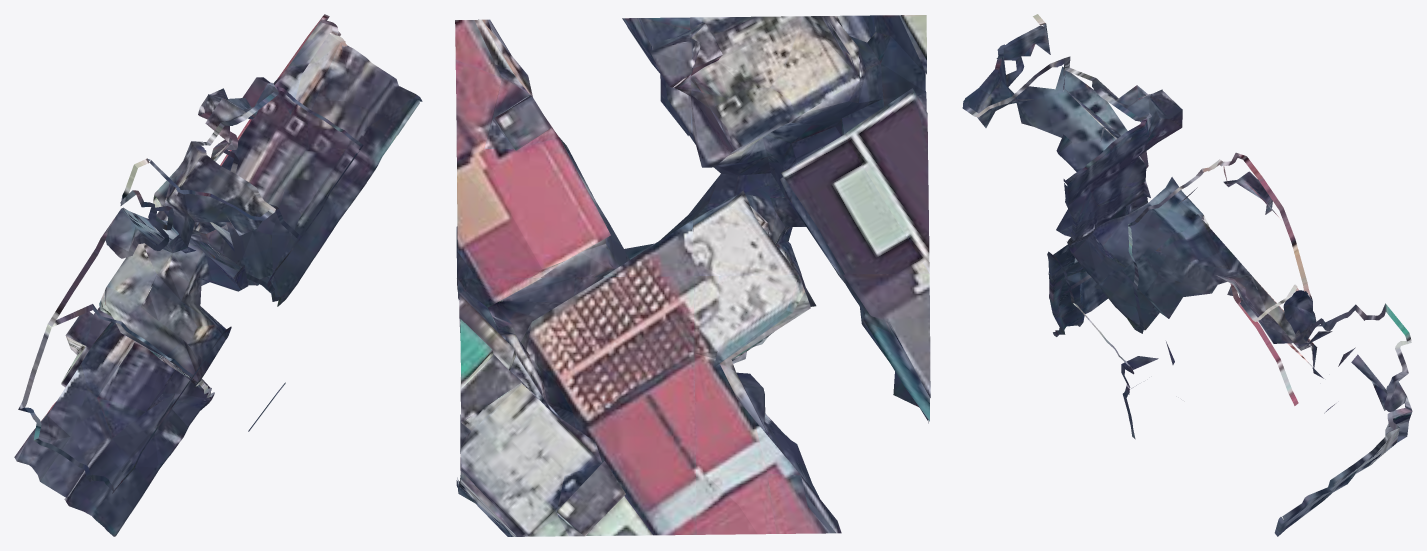
3 views of the same model, side by side, from view 1: azimuth 30°, elevation 25°; view 2: azimuth 150°, elevation 25°; view 3: azimuth 270°, elevation 25° (orthographic). The views are drawn at different scales.
Bounding box in the file's own units: 39.26 × 39.58 × 39.25.
2 materials, 2 textured.
